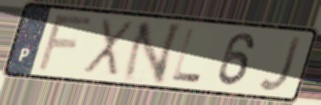6: (216, 31, 256, 89)
F: (34, 13, 97, 73)
J: (257, 35, 305, 95)
L: (169, 27, 204, 85)
N: (118, 21, 187, 86)
X: (79, 16, 137, 81)
